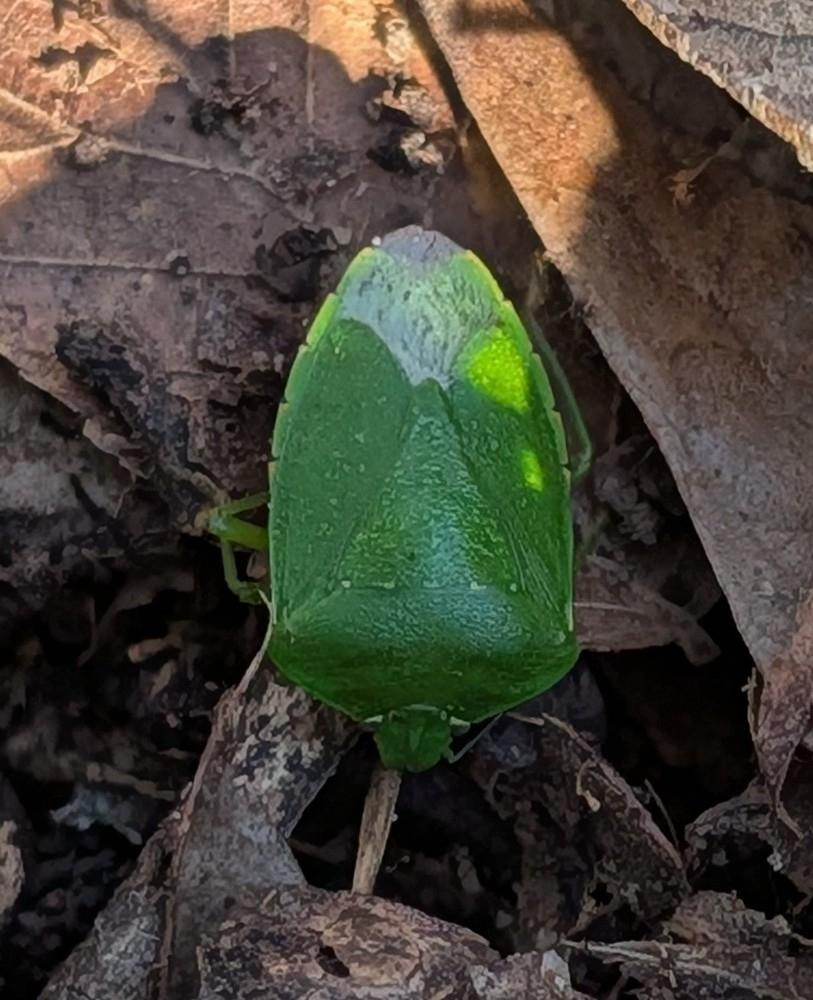stink_bugs: (139, 141, 716, 824)
